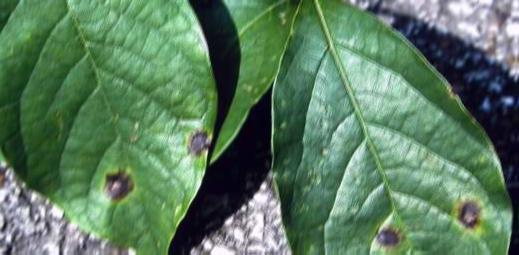Tomato leaf bacterial spot: (265, 0, 519, 255), (0, 0, 238, 255)
